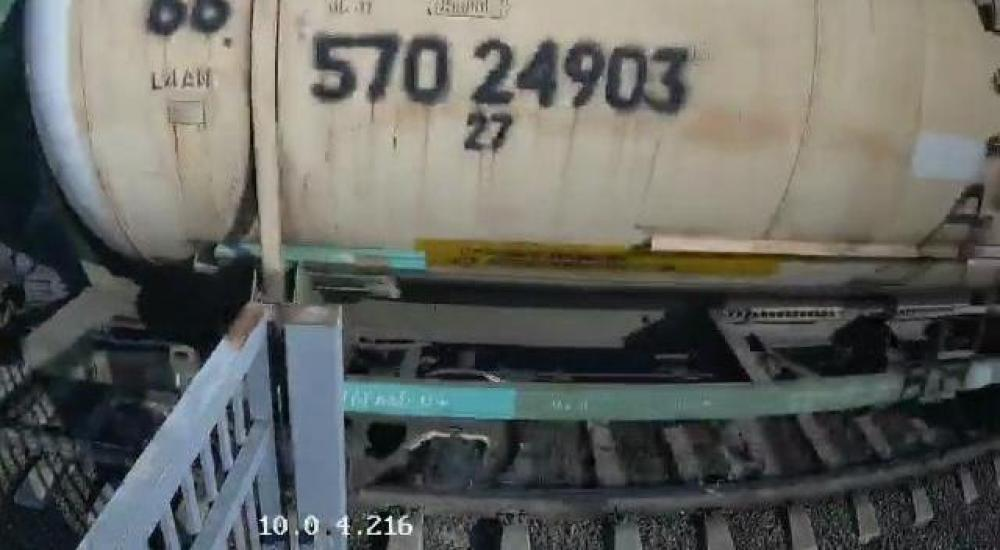Wagon-number: (309, 30, 691, 118)
